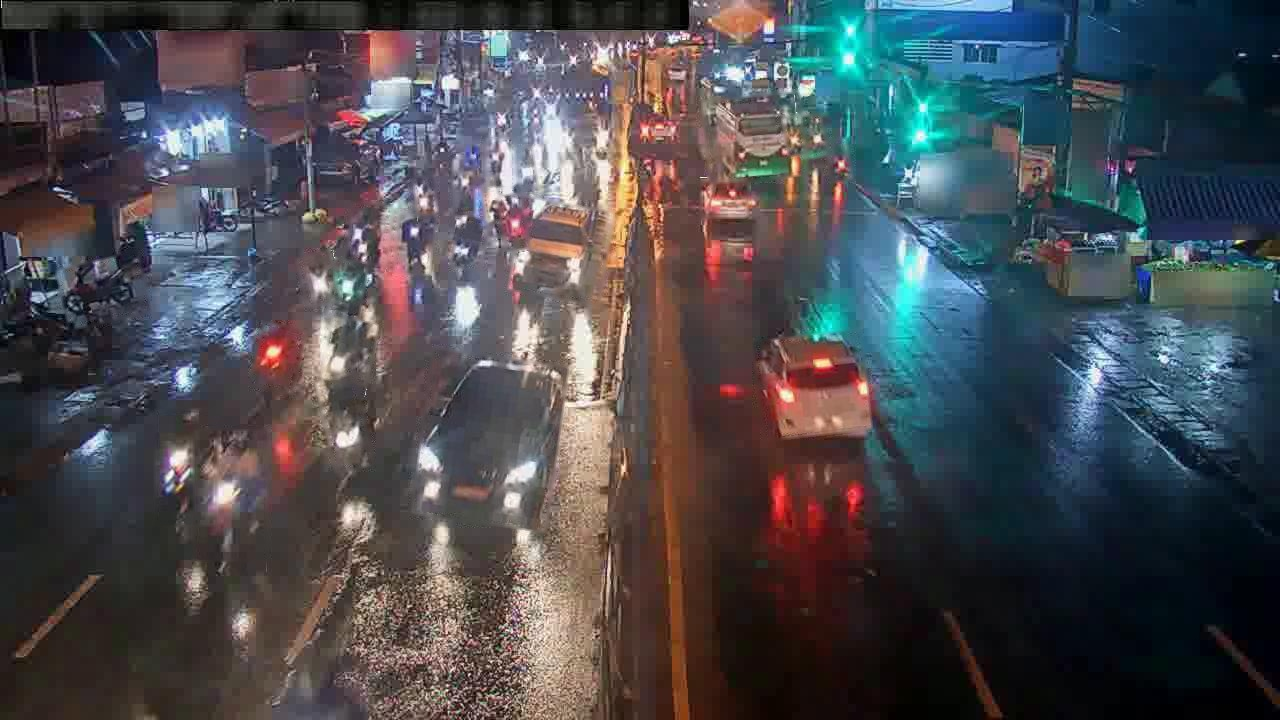Bus: (709, 98, 798, 181)
Car: (414, 360, 564, 532), (757, 334, 872, 440), (527, 204, 591, 261), (704, 181, 756, 219)
Motorcyclist: (201, 431, 266, 571), (160, 409, 208, 514), (325, 377, 376, 471), (64, 261, 139, 317), (323, 317, 377, 394), (348, 204, 381, 273), (401, 214, 435, 274), (300, 251, 337, 304), (330, 261, 366, 315), (452, 216, 484, 272), (500, 195, 532, 250), (799, 115, 829, 161), (454, 162, 475, 215), (825, 141, 850, 181), (488, 139, 509, 184), (782, 120, 807, 156), (488, 189, 506, 238), (413, 182, 436, 220), (516, 148, 537, 185)
Traffic light: (256, 334, 289, 384)
